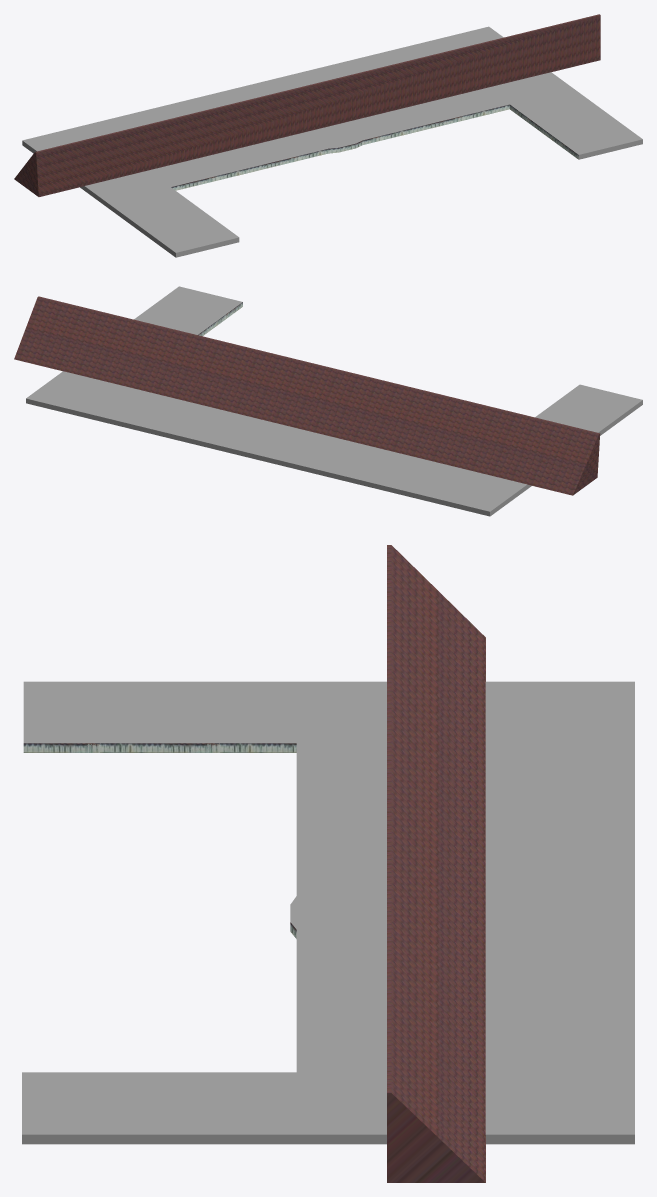
The model's file is KTHMiddlePart2.fbx.
3 renders of one model, top to bottom at view 1: azimuth 30°, elevation 25°; view 2: azimuth 150°, elevation 25°; view 3: azimuth 270°, elevation 25°, orthographic. The views are drawn at different scales.
Parts seen in each view (by area): view 1: pCube927, pCube928; view 2: pCube928, pCube927; view 3: pCube927, pCube928.
Boxes of the visible parts, bbox=[...] form: pCube927: bbox=[22, 26, 642, 257]; pCube928: bbox=[14, 14, 600, 196]; pCube928: bbox=[14, 296, 600, 495]; pCube927: bbox=[26, 286, 642, 516]; pCube927: bbox=[22, 681, 634, 1144]; pCube928: bbox=[387, 545, 485, 1182].
Size of the model in its own units: 85.1 by 7.19 by 40.21.
